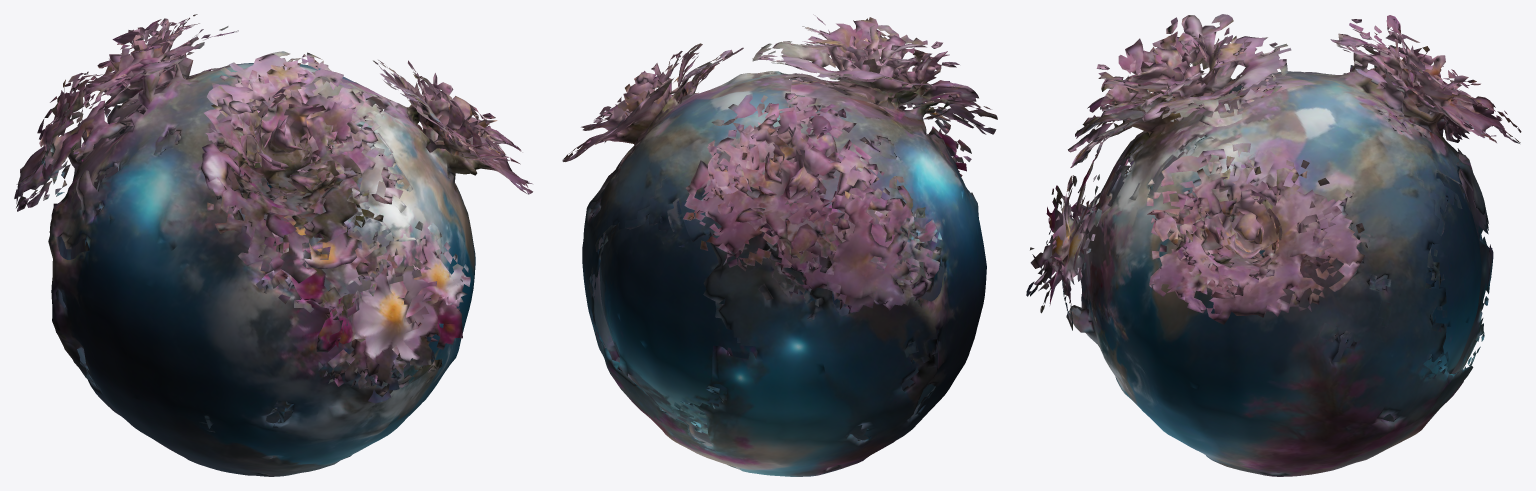
File: earthFlowers.glb
3 views of the same model, side by side, from view 1: azimuth 30°, elevation 25°; view 2: azimuth 150°, elevation 25°; view 3: azimuth 270°, elevation 25° (orthographic). The views are drawn at different scales.
Size of the model in its own units: 1.9 by 1.79 by 1.97.
1 material, 1 textured.
